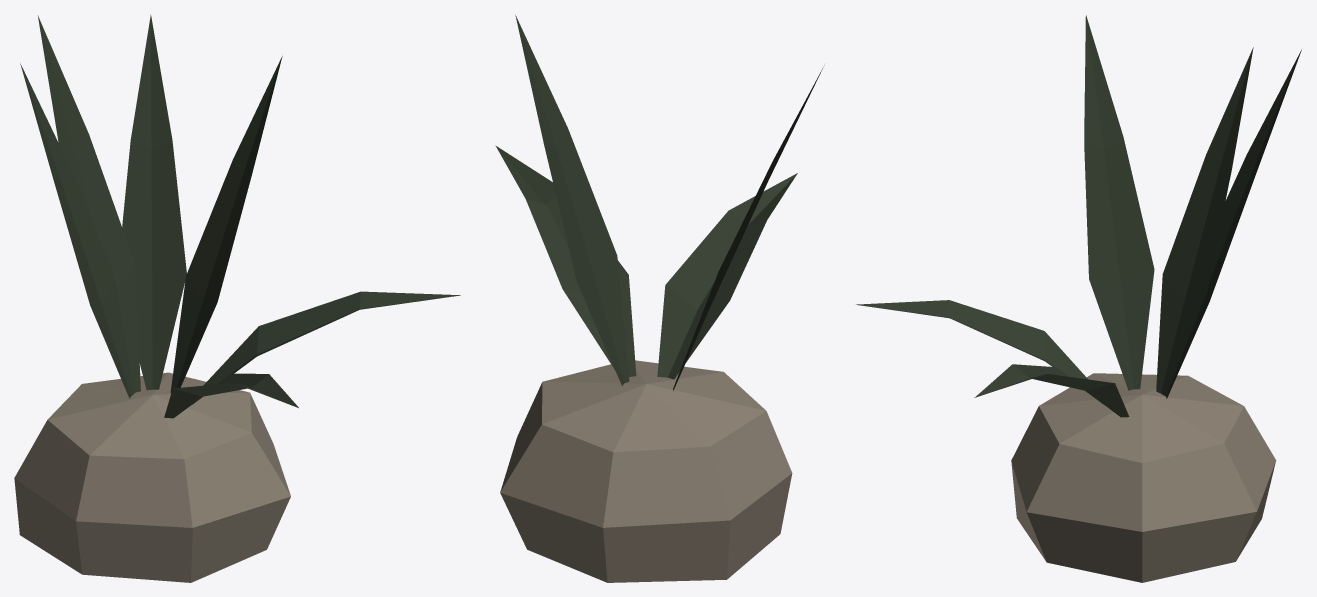
File: boneroot_s2.glb
The picture shows the model from 3 angles, left to right: view 1: azimuth 30°, elevation 25°; view 2: azimuth 150°, elevation 25°; view 3: azimuth 270°, elevation 25°; orthographic projection. The views are drawn at different scales.
Parts seen in each view (by area): view 1: boneroot_s2; view 2: boneroot_s2; view 3: boneroot_s2.
Boxes of the visible parts, box(x1,y1,x2,y2) form: boneroot_s2: box(14, 14, 460, 582); boneroot_s2: box(495, 15, 824, 582); boneroot_s2: box(856, 15, 1301, 582).
Size of the model in its own units: 0.2662 by 0.3254 by 0.2839.
